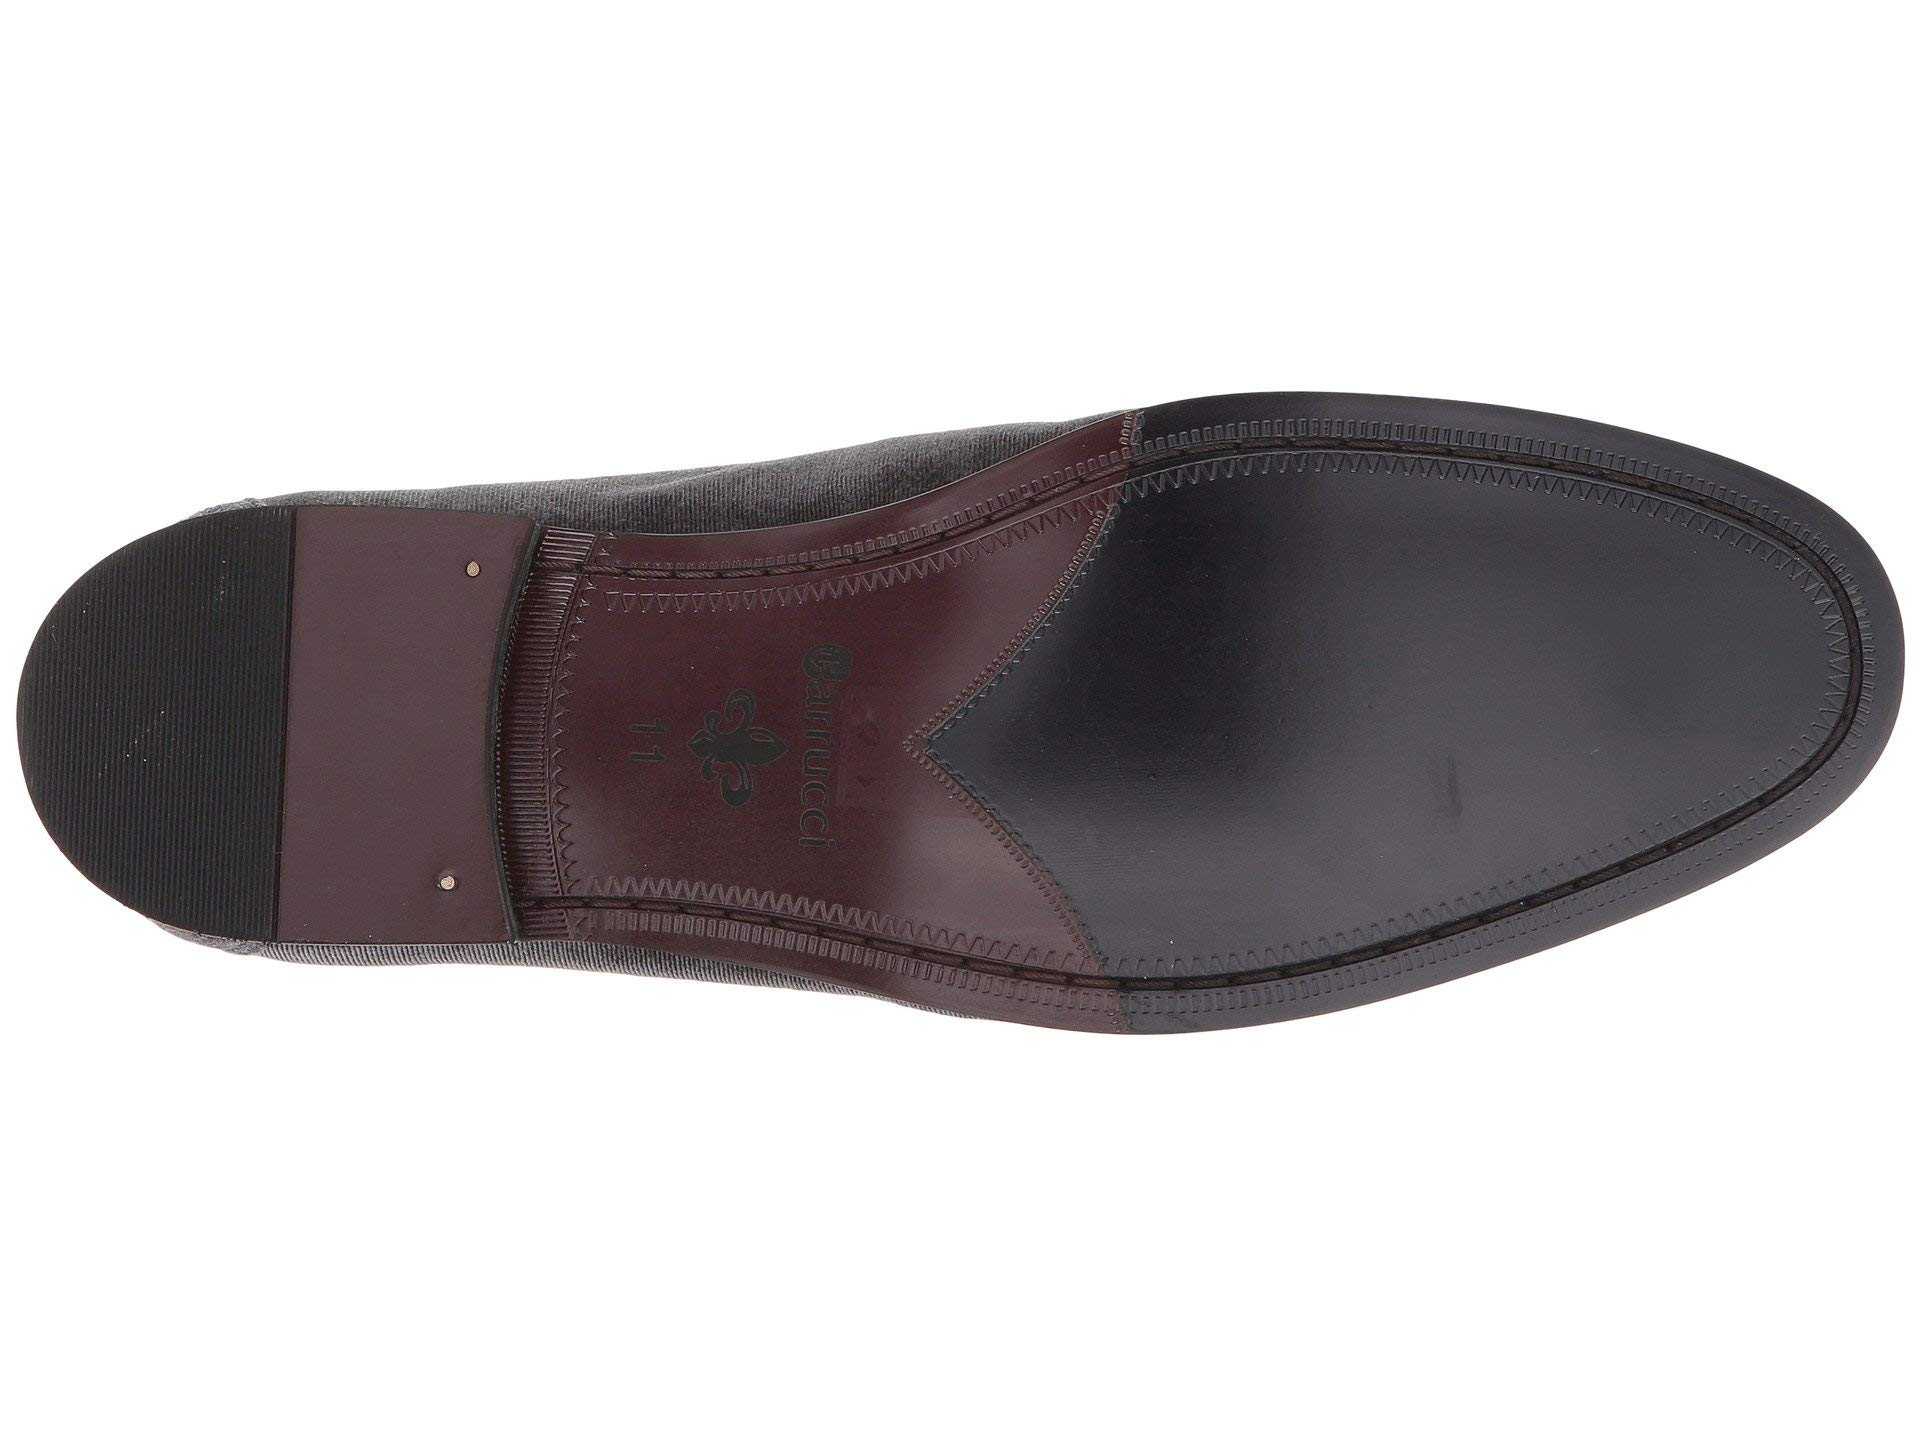chevron: (1717, 483, 1894, 797), (1188, 401, 1560, 546), (1154, 932, 1356, 1026), (1429, 858, 1612, 947)
circle: (417, 852, 478, 902), (444, 545, 494, 597)
line: (1717, 483, 1894, 797), (1188, 401, 1560, 546), (98, 597, 268, 870), (1154, 932, 1356, 1026), (1429, 858, 1612, 947)
quad: (1717, 483, 1894, 797), (1188, 401, 1560, 546), (1154, 932, 1356, 1026), (1429, 858, 1612, 947)
